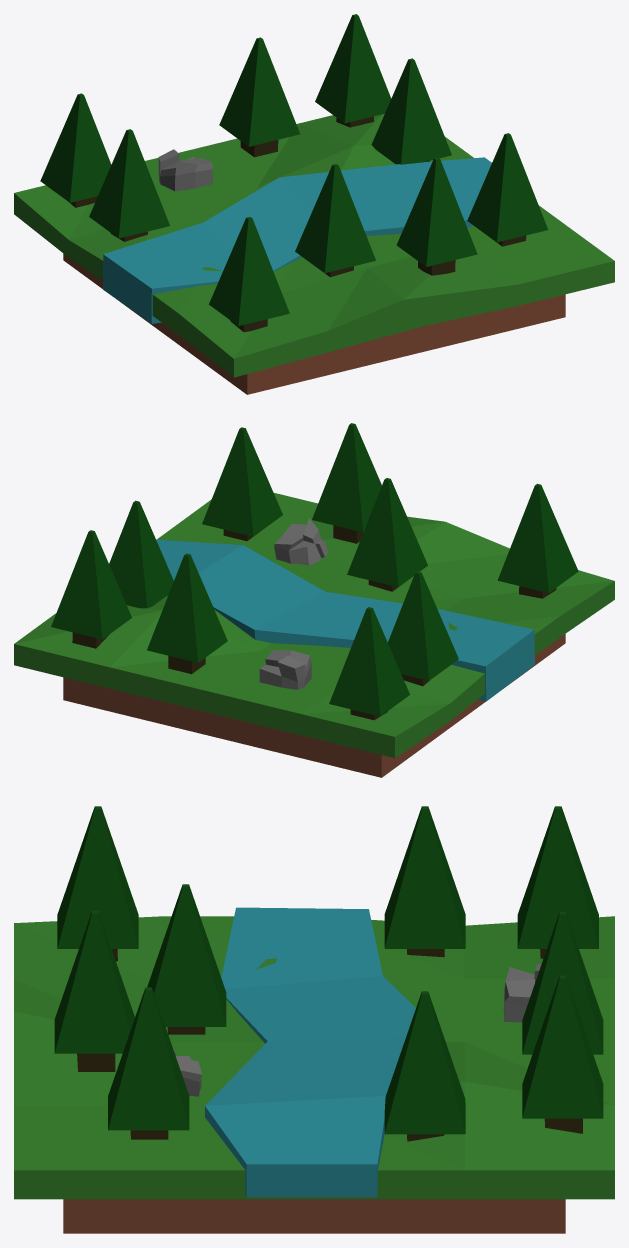
The model's file is Lake.glb.
The picture shows the model from 3 angles, top to bottom: view 1: azimuth 30°, elevation 25°; view 2: azimuth 150°, elevation 25°; view 3: azimuth 270°, elevation 25°; orthographic projection. The views are drawn at different scales.
Parts seen in each view (by area): view 1: Cube.001, Cube.010, Cube, Cube.002; view 2: Cube.001, Cube.010, Cube, Cube.003, Cube.002; view 3: Cube.001, Cube.010, Cube, Cube.002, Cube.003.
Boxes of the visible parts, <box> form: Cube.001: <box>14,113,614,394</box>; Cube.010: <box>40,14,548,332</box>; Cube: <box>103,157,491,323</box>; Cube.002: <box>158,149,212,191</box>; Cube.001: <box>14,493,614,777</box>; Cube.010: <box>51,423,578,720</box>; Cube: <box>156,539,534,701</box>; Cube.003: <box>274,518,328,565</box>; Cube.002: <box>259,650,311,689</box>; Cube.001: <box>14,916,614,1233</box>; Cube.010: <box>54,806,603,1141</box>; Cube: <box>205,907,444,1197</box>; Cube.002: <box>503,963,541,1022</box>; Cube.003: <box>173,1050,202,1096</box>.
Bounding box in the file's own units: 9.67 × 4.28 × 9.57.
